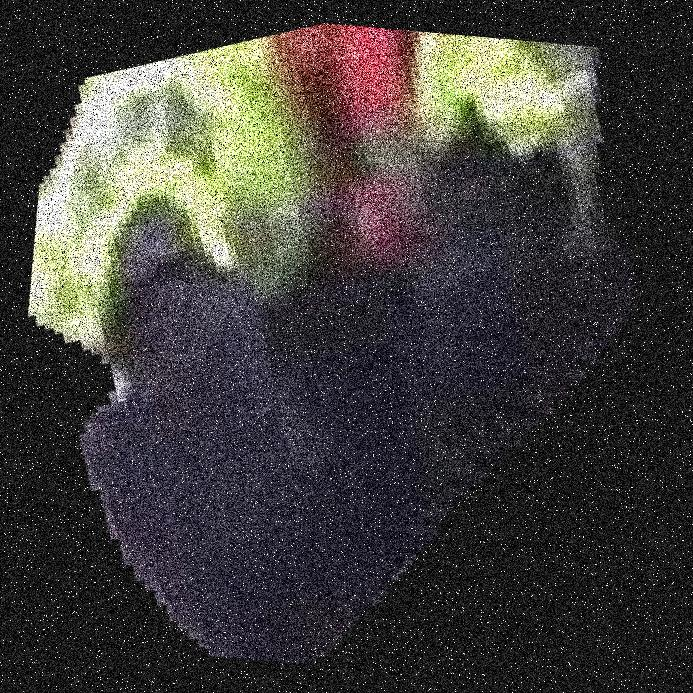Pessoa: (94, 0, 629, 692)
